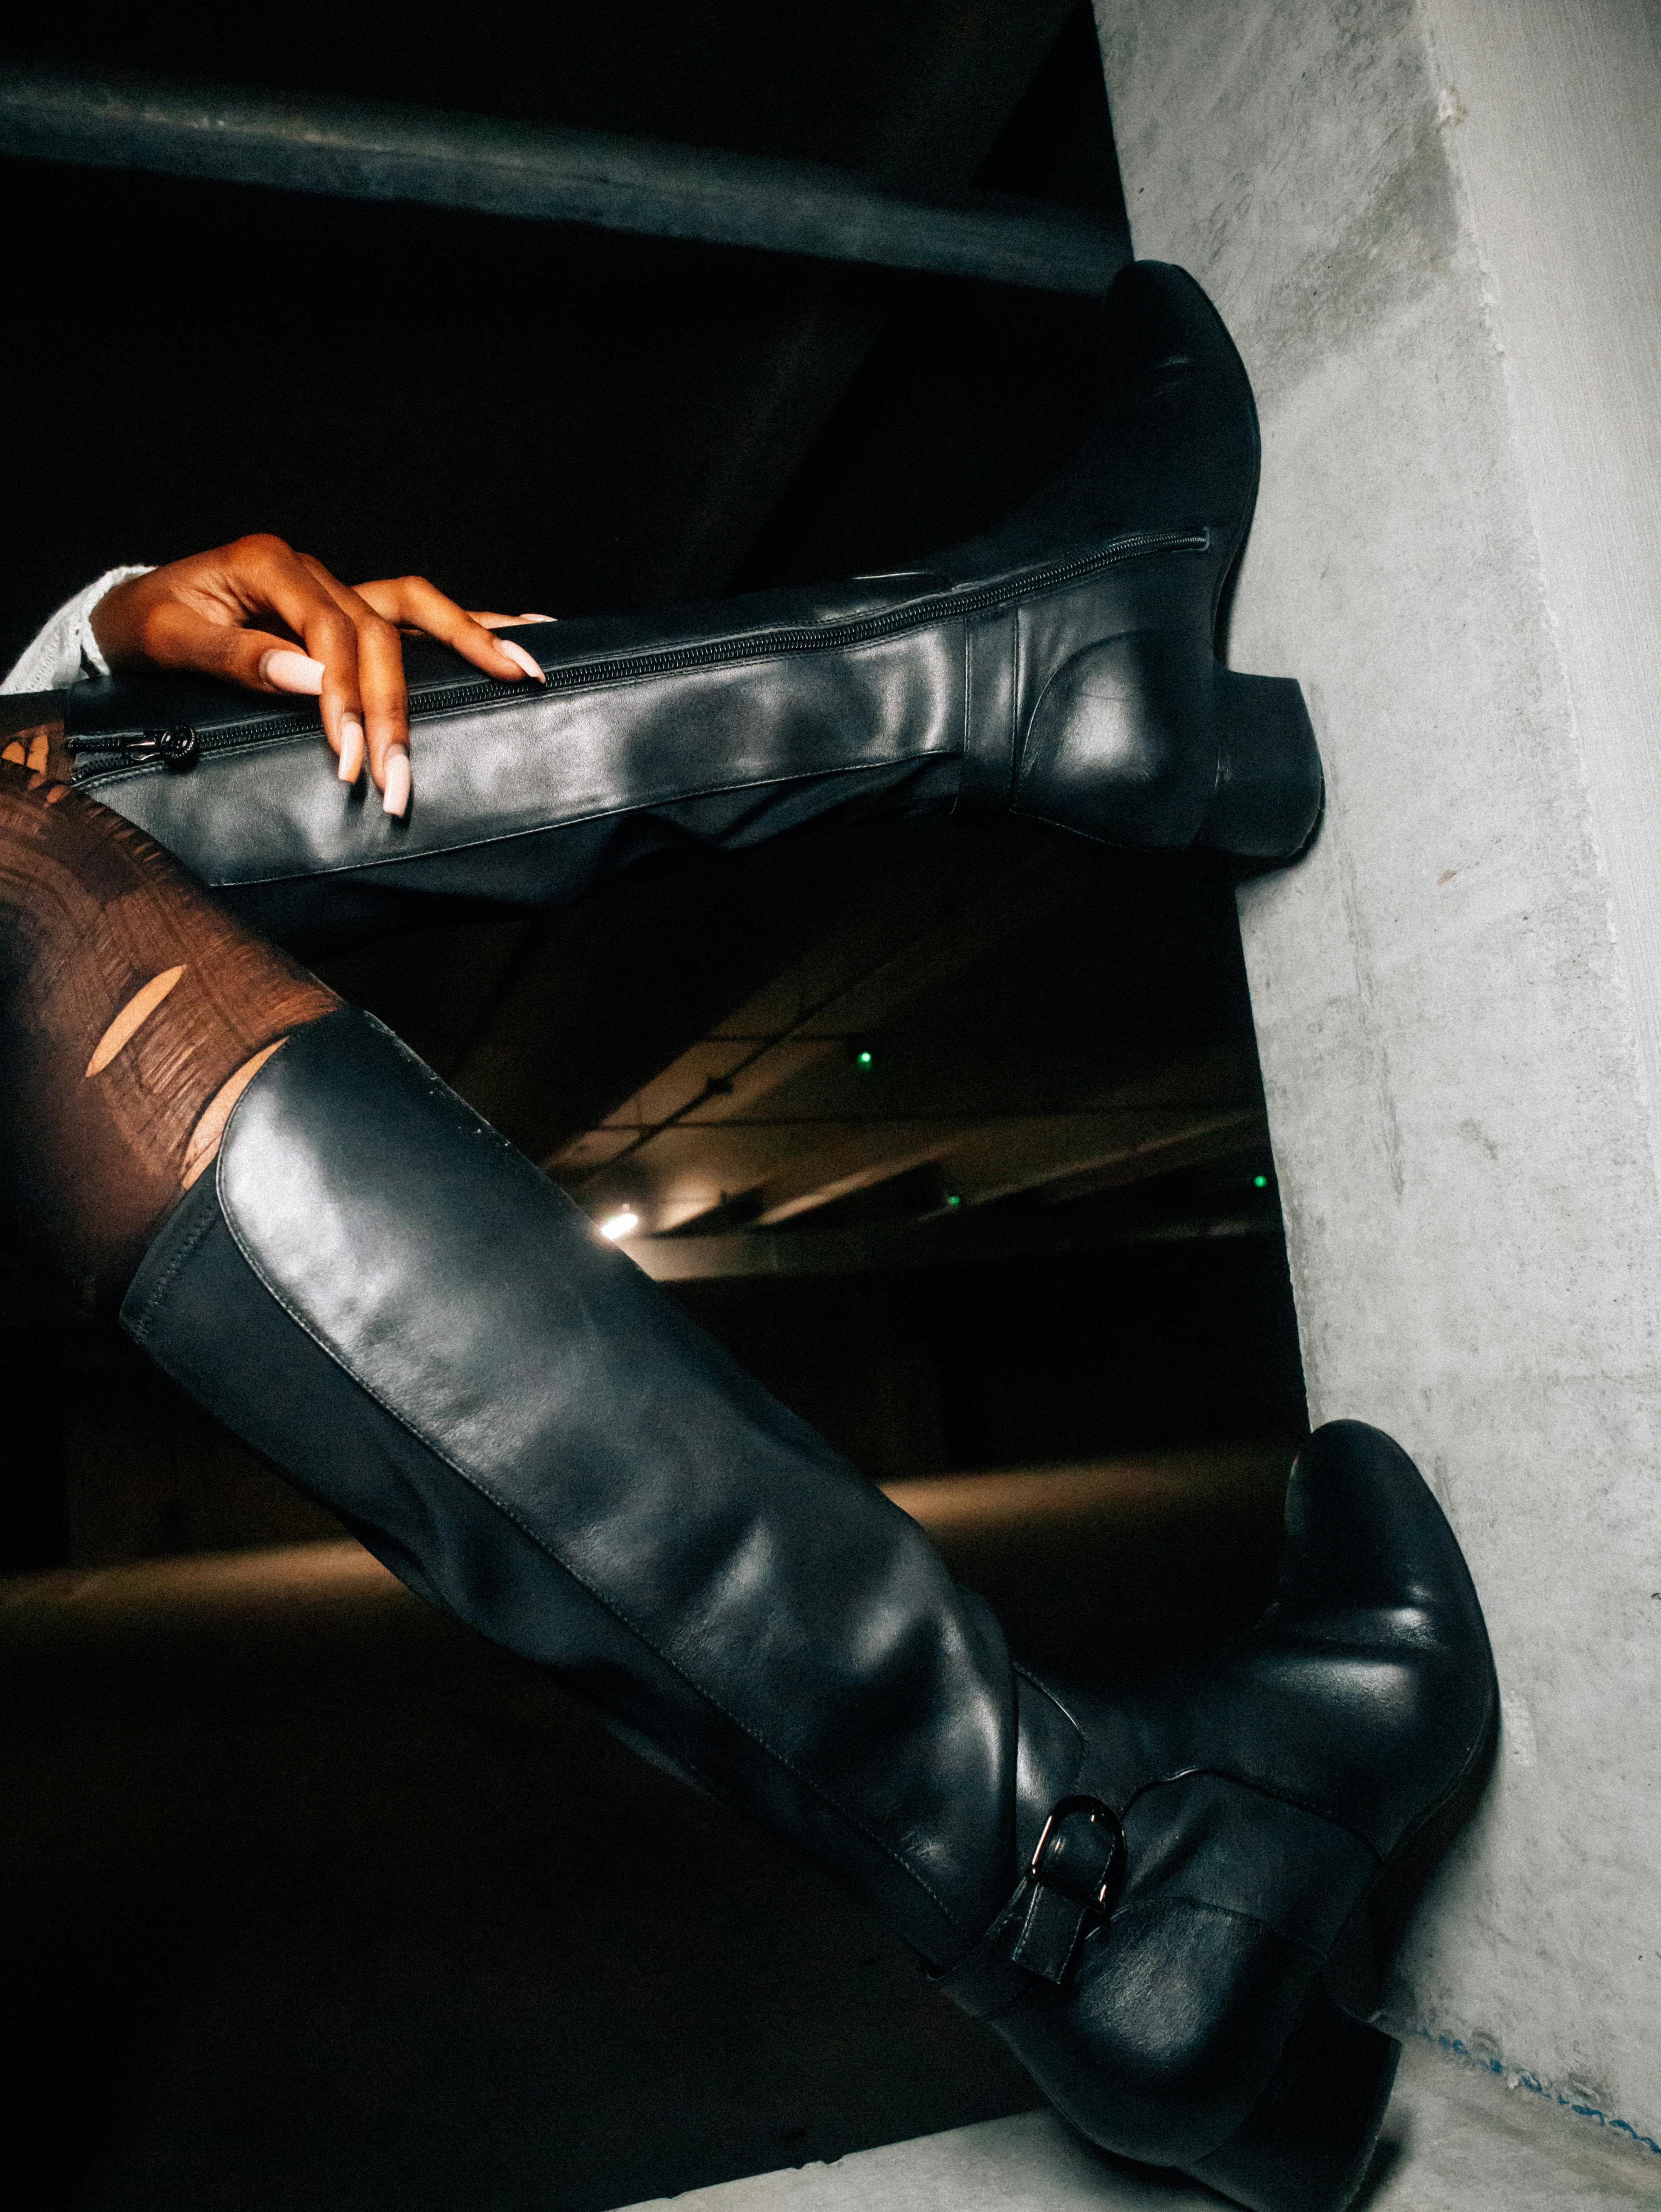Footwear: (91, 977, 1565, 2212)
